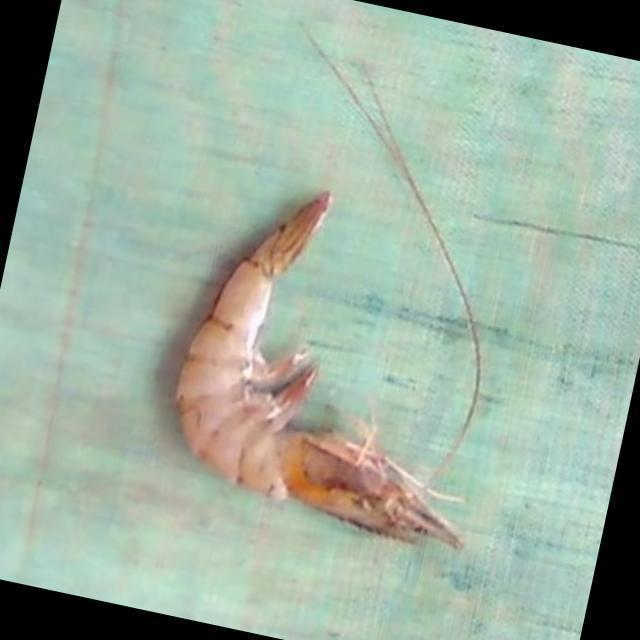shrimp: (174, 193, 459, 548)
